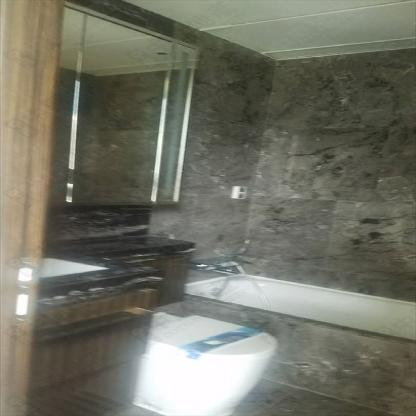Bathtub: (184, 272, 415, 414)
Toilet: (129, 308, 278, 415)
Toilet Sink: (41, 255, 108, 279)
